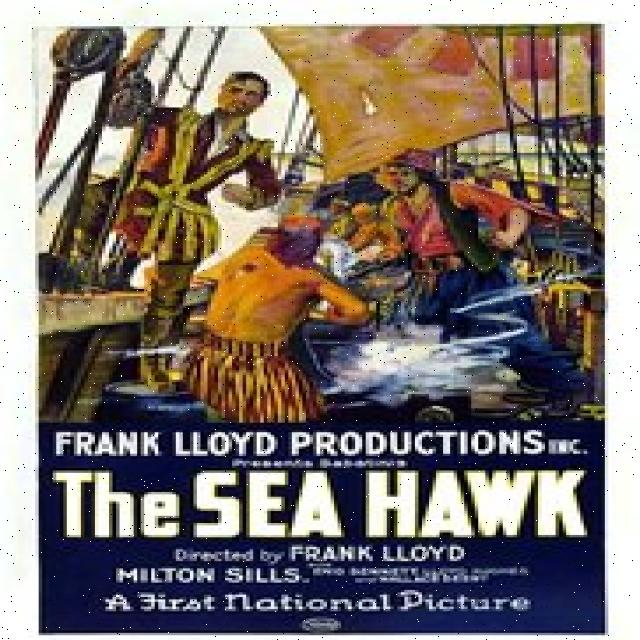movie-judul: (46, 423, 599, 622)
picture: (36, 29, 604, 419)
